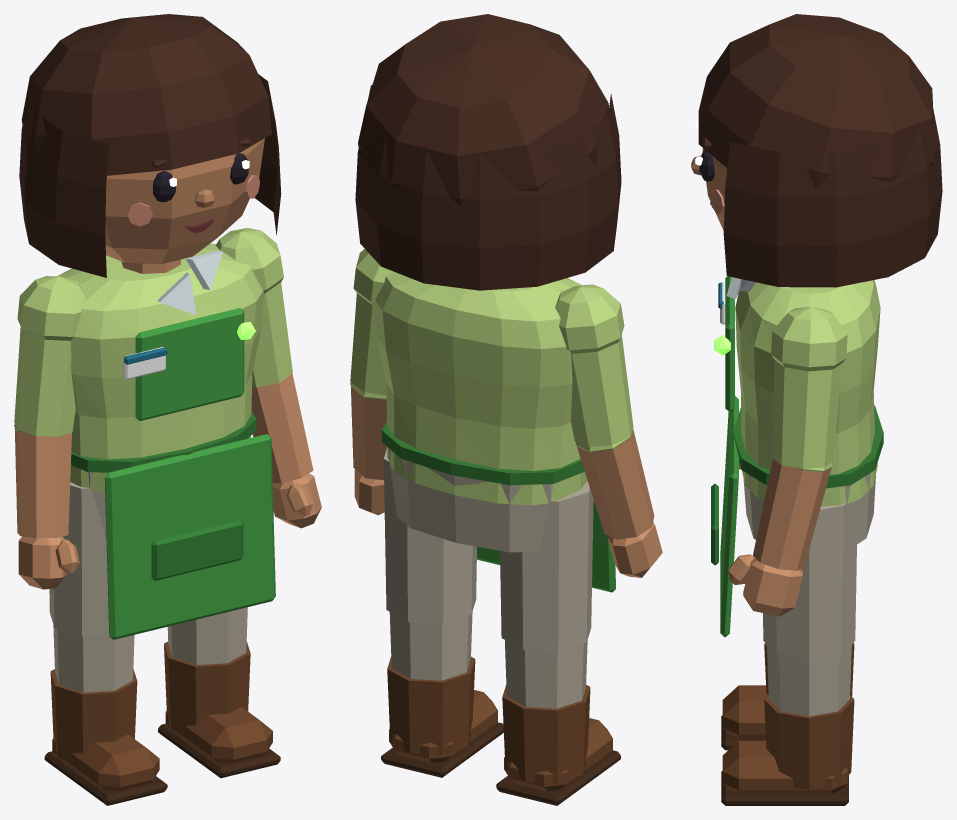
The model's file is kas_ver.glb.
3 renders of one model, left to right at view 1: azimuth 30°, elevation 25°; view 2: azimuth 150°, elevation 25°; view 3: azimuth 270°, elevation 25°, orthographic.
Parts seen in each view (by area): view 1: haare, schürze, torso, arm_r, kopf, bein_r, schuh_l, schuh_r, arm_l, bein_l, hand_r, gesicht (+3 smaller); view 2: haare, torso, bein_r, arm_r, bein_l, schuh_r, schuh_l, becken, arm_l, schürze, hand_r, hand_l; view 3: haare, arm_l, torso, bein_l, schuh_l, schürze, hand_l, schuh_r, becken, gesicht, kopf.
Boxes of the visible parts, box(x1,y1,x2,y2) form: haare: box(19, 14, 281, 277); schürze: box(71, 308, 275, 639); torso: box(57, 243, 263, 491); arm_r: box(14, 276, 85, 538); kopf: box(105, 138, 264, 264); bein_r: box(49, 482, 134, 692); schuh_l: box(158, 641, 280, 778); schuh_r: box(44, 669, 167, 805); arm_l: box(215, 228, 313, 483); bein_l: box(167, 436, 251, 664); hand_r: box(18, 536, 79, 589); gesicht: box(127, 138, 259, 232); haare: box(355, 14, 621, 290); torso: box(374, 272, 587, 505); bein_r: box(500, 481, 593, 708); arm_r: box(555, 284, 654, 539); bein_l: box(383, 448, 476, 680); schuh_r: box(496, 685, 620, 805); schuh_l: box(381, 656, 503, 777); becken: box(388, 448, 553, 552); arm_l: box(350, 249, 394, 480); schürze: box(382, 422, 615, 592); hand_r: box(607, 522, 662, 577); hand_l: box(354, 469, 384, 515); haare: box(698, 14, 942, 287); arm_l: box(753, 306, 847, 570); torso: box(735, 280, 880, 506); bein_l: box(763, 502, 856, 716); schuh_l: box(721, 695, 854, 805); schürze: box(711, 276, 883, 637); hand_l: box(728, 554, 802, 616); schuh_r: box(721, 643, 854, 750); becken: box(743, 473, 875, 548); gesicht: box(691, 121, 724, 213); kopf: box(702, 148, 727, 230).
Size of the model in its own units: 0.0103 by 0.0245 by 0.00763.
